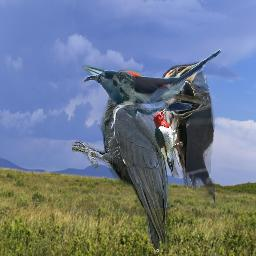Cuckoo: (84, 48, 226, 119)
Woodpecker: (72, 65, 177, 256), (155, 58, 215, 211), (153, 106, 183, 177)
